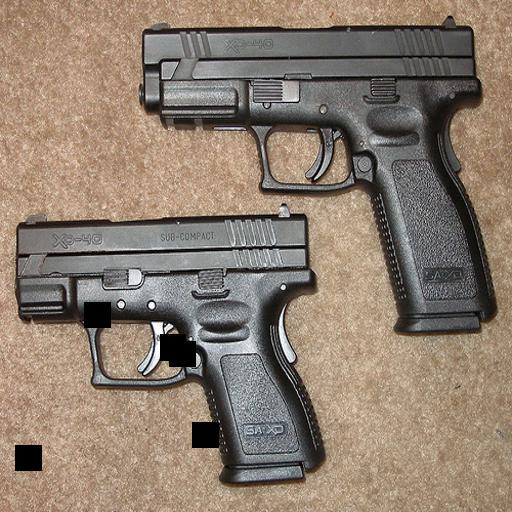Handgun: (140, 14, 493, 333), (16, 205, 324, 481)
